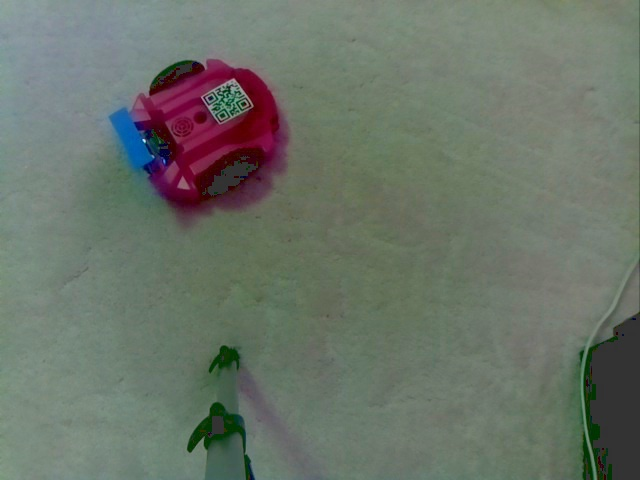board: (109, 108, 177, 178)
chassis: (108, 55, 281, 203)
